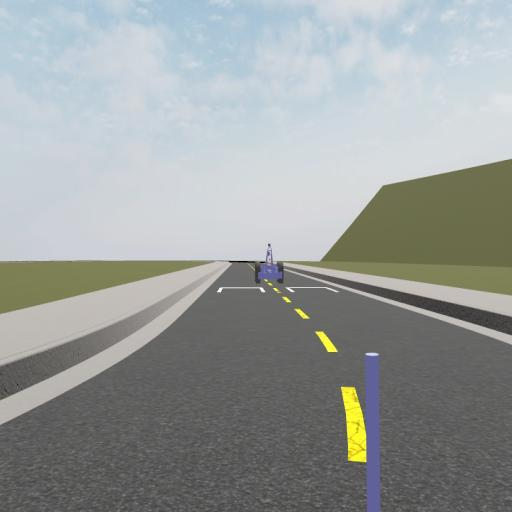ERP-42: (253, 245, 284, 283)
